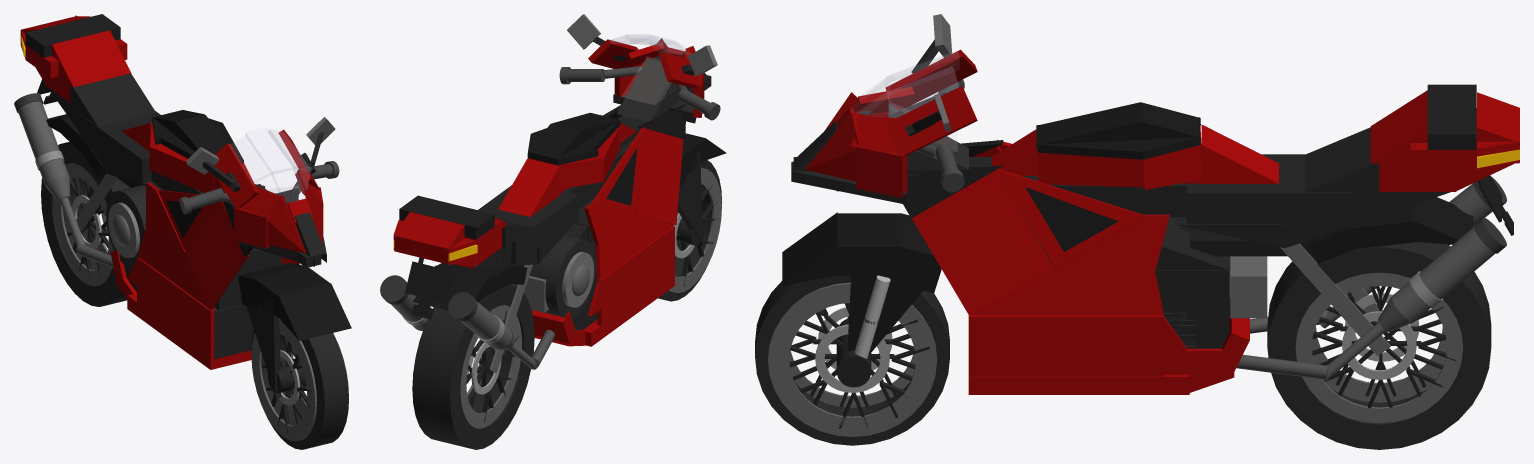
File: motuo1.glb
3 views of the same model, side by side, from view 1: azimuth 30°, elevation 25°; view 2: azimuth 150°, elevation 25°; view 3: azimuth 270°, elevation 25° (orthographic). The views are drawn at different scales.
Visible parts, largest first — view 1: box (×24), wedge (×20), annulus (×6), cylinder (×7), truncatedCone, hemisphere; view 2: box (×26), wedge (×22), annulus (×5), cylinder (×11), hemisphere; view 3: box (×24), wedge (×28), annulus (×8), cylinder (×6).
Part boxes in pixels (box(x1,y1,x2,y2)): box (×24): box(25, 14, 335, 369); wedge (×20): box(47, 30, 351, 398); annulus (×6): box(41, 142, 348, 449); cylinder (×7): box(18, 101, 306, 393); truncatedCone: box(45, 176, 70, 202); hemisphere: box(112, 215, 130, 246); box (×26): box(394, 14, 717, 373); wedge (×22): box(394, 57, 703, 310); annulus (×5): box(412, 160, 722, 449); cylinder (×11): box(380, 66, 718, 368); hemisphere: box(572, 264, 589, 296); box (×24): box(837, 49, 1476, 394); wedge (×28): box(782, 90, 1519, 355); annulus (×8): box(755, 242, 1491, 449); cylinder (×6): box(836, 183, 1495, 387).
Bounding box in the file's own units: 0.826 × 1.47 × 2.67.
